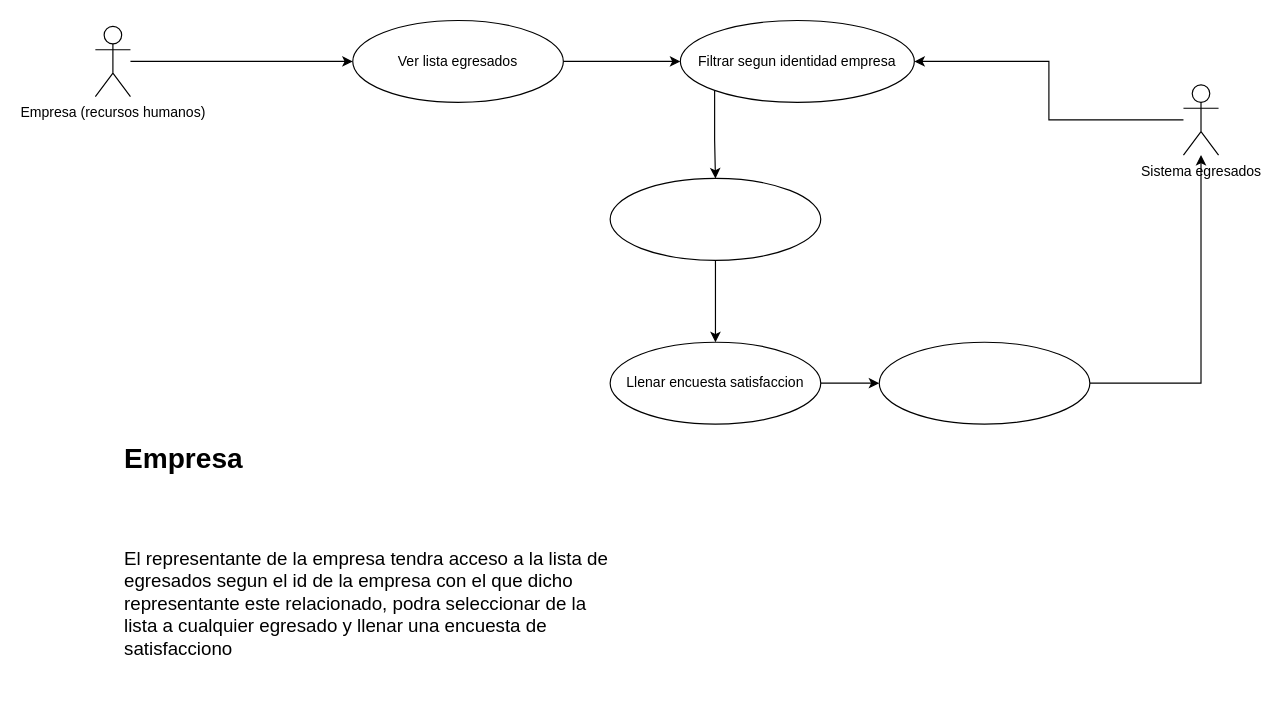
This 1281x725 diagram has some shape labels left out. The centre of each missing label's shape, as x and y in pixels:
Enviar respuesta: the point at 984,382
Seleccionar egresado: the point at 715,218
